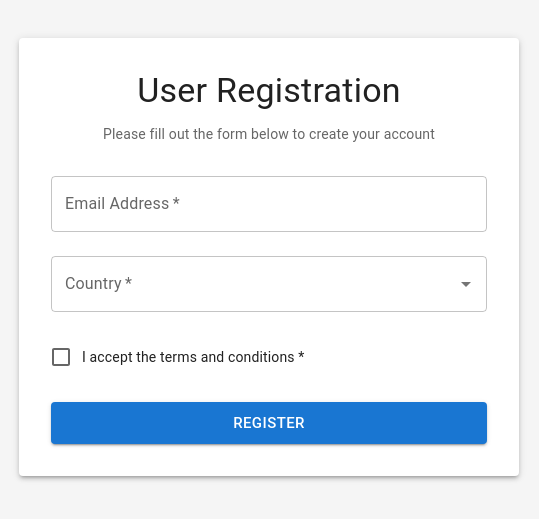
Test: App Component › Form Validation › should only show specific validation errors for incomplete fields
This screenshot has width=539, height=519.
Type "test@example.com" into the field with test id "email-input" at (269, 204), box [51,176,487,232]
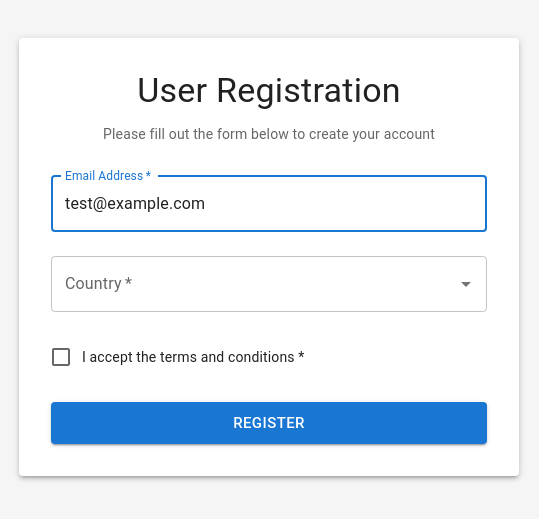
Click the button with test id "submit-button" at (269, 423), box [51,402,487,444]
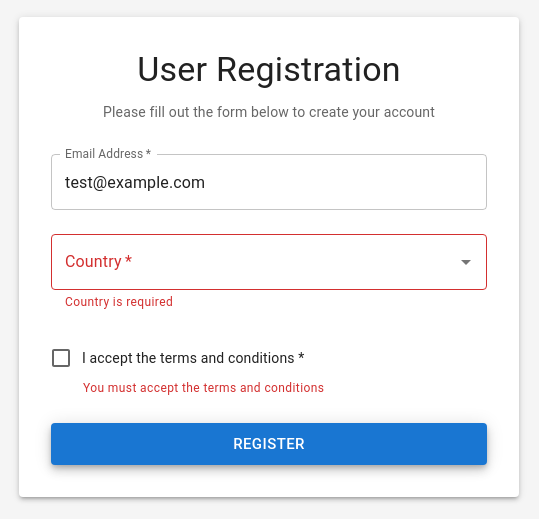
Check: the text "Country is required" is shown, box [65,295,173,309]
Check: the text "You must accept the terms and conditions" is shown, box [83,381,324,395]
